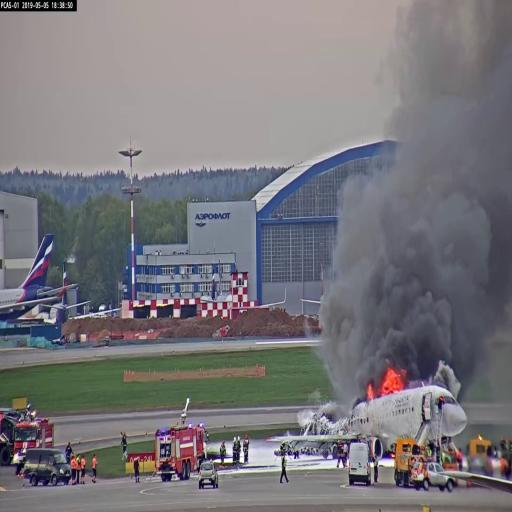fire: (368, 376, 402, 402)
smoke: (397, 3, 512, 351), (346, 181, 494, 354)
